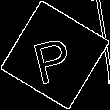P_N: (31, 26, 79, 84)
